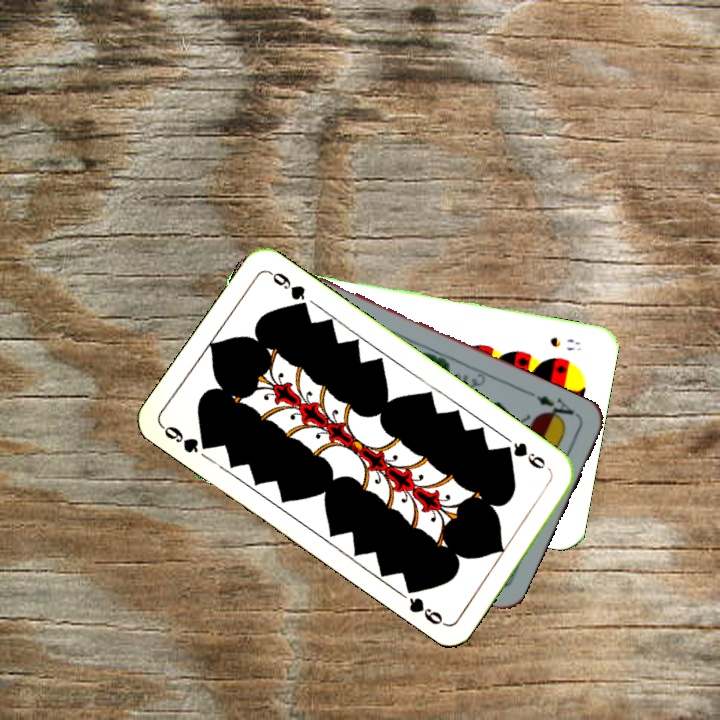EA: (524, 387, 581, 426)
G9: (158, 421, 216, 456), (499, 438, 548, 472)
S8: (546, 333, 584, 354)
